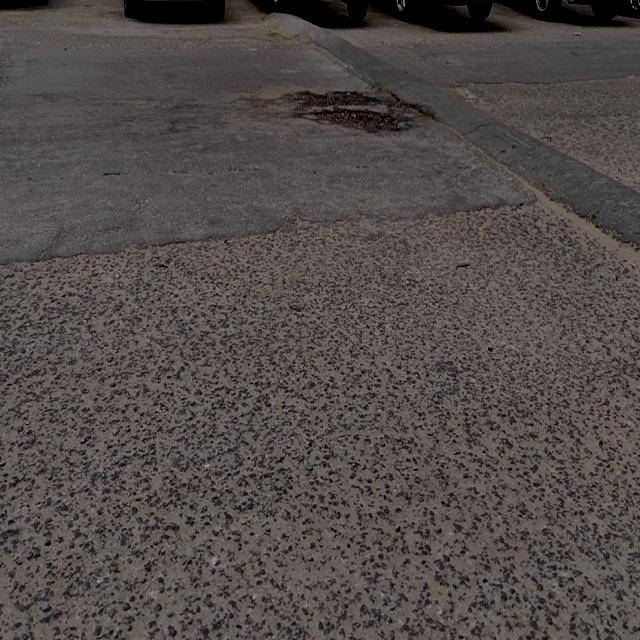Potholes: (294, 86, 403, 133)
